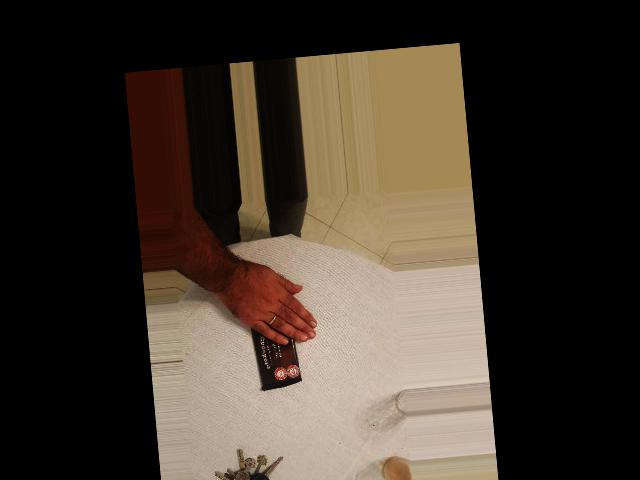chocolate: (241, 279, 308, 395)
